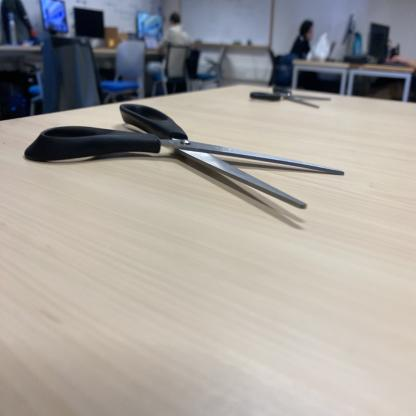scissors: (24, 100, 347, 210), (249, 83, 333, 113)
